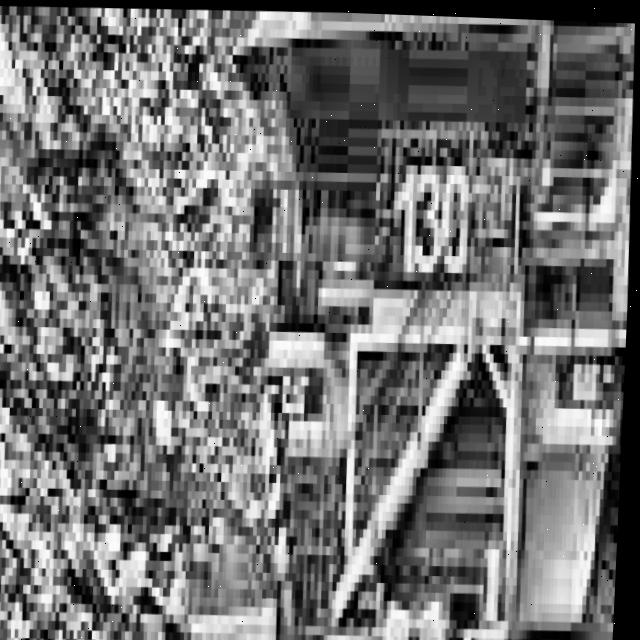dump_truck: (167, 5, 640, 640)
